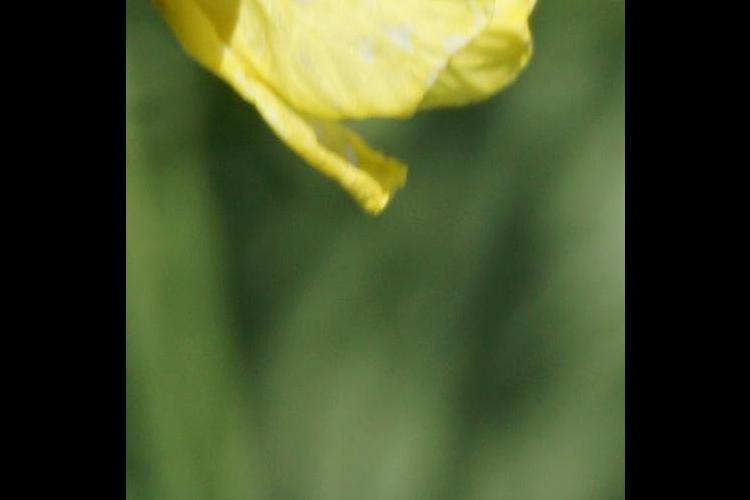yellow: (135, 1, 566, 225)
